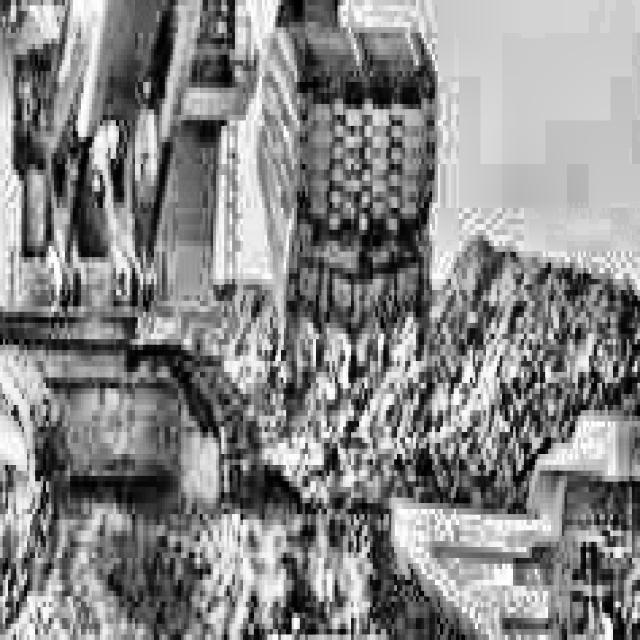buldozerpayloadergrader: (187, 563, 468, 640)
dump_truck: (389, 290, 640, 640)
excavator: (0, 0, 478, 547)
